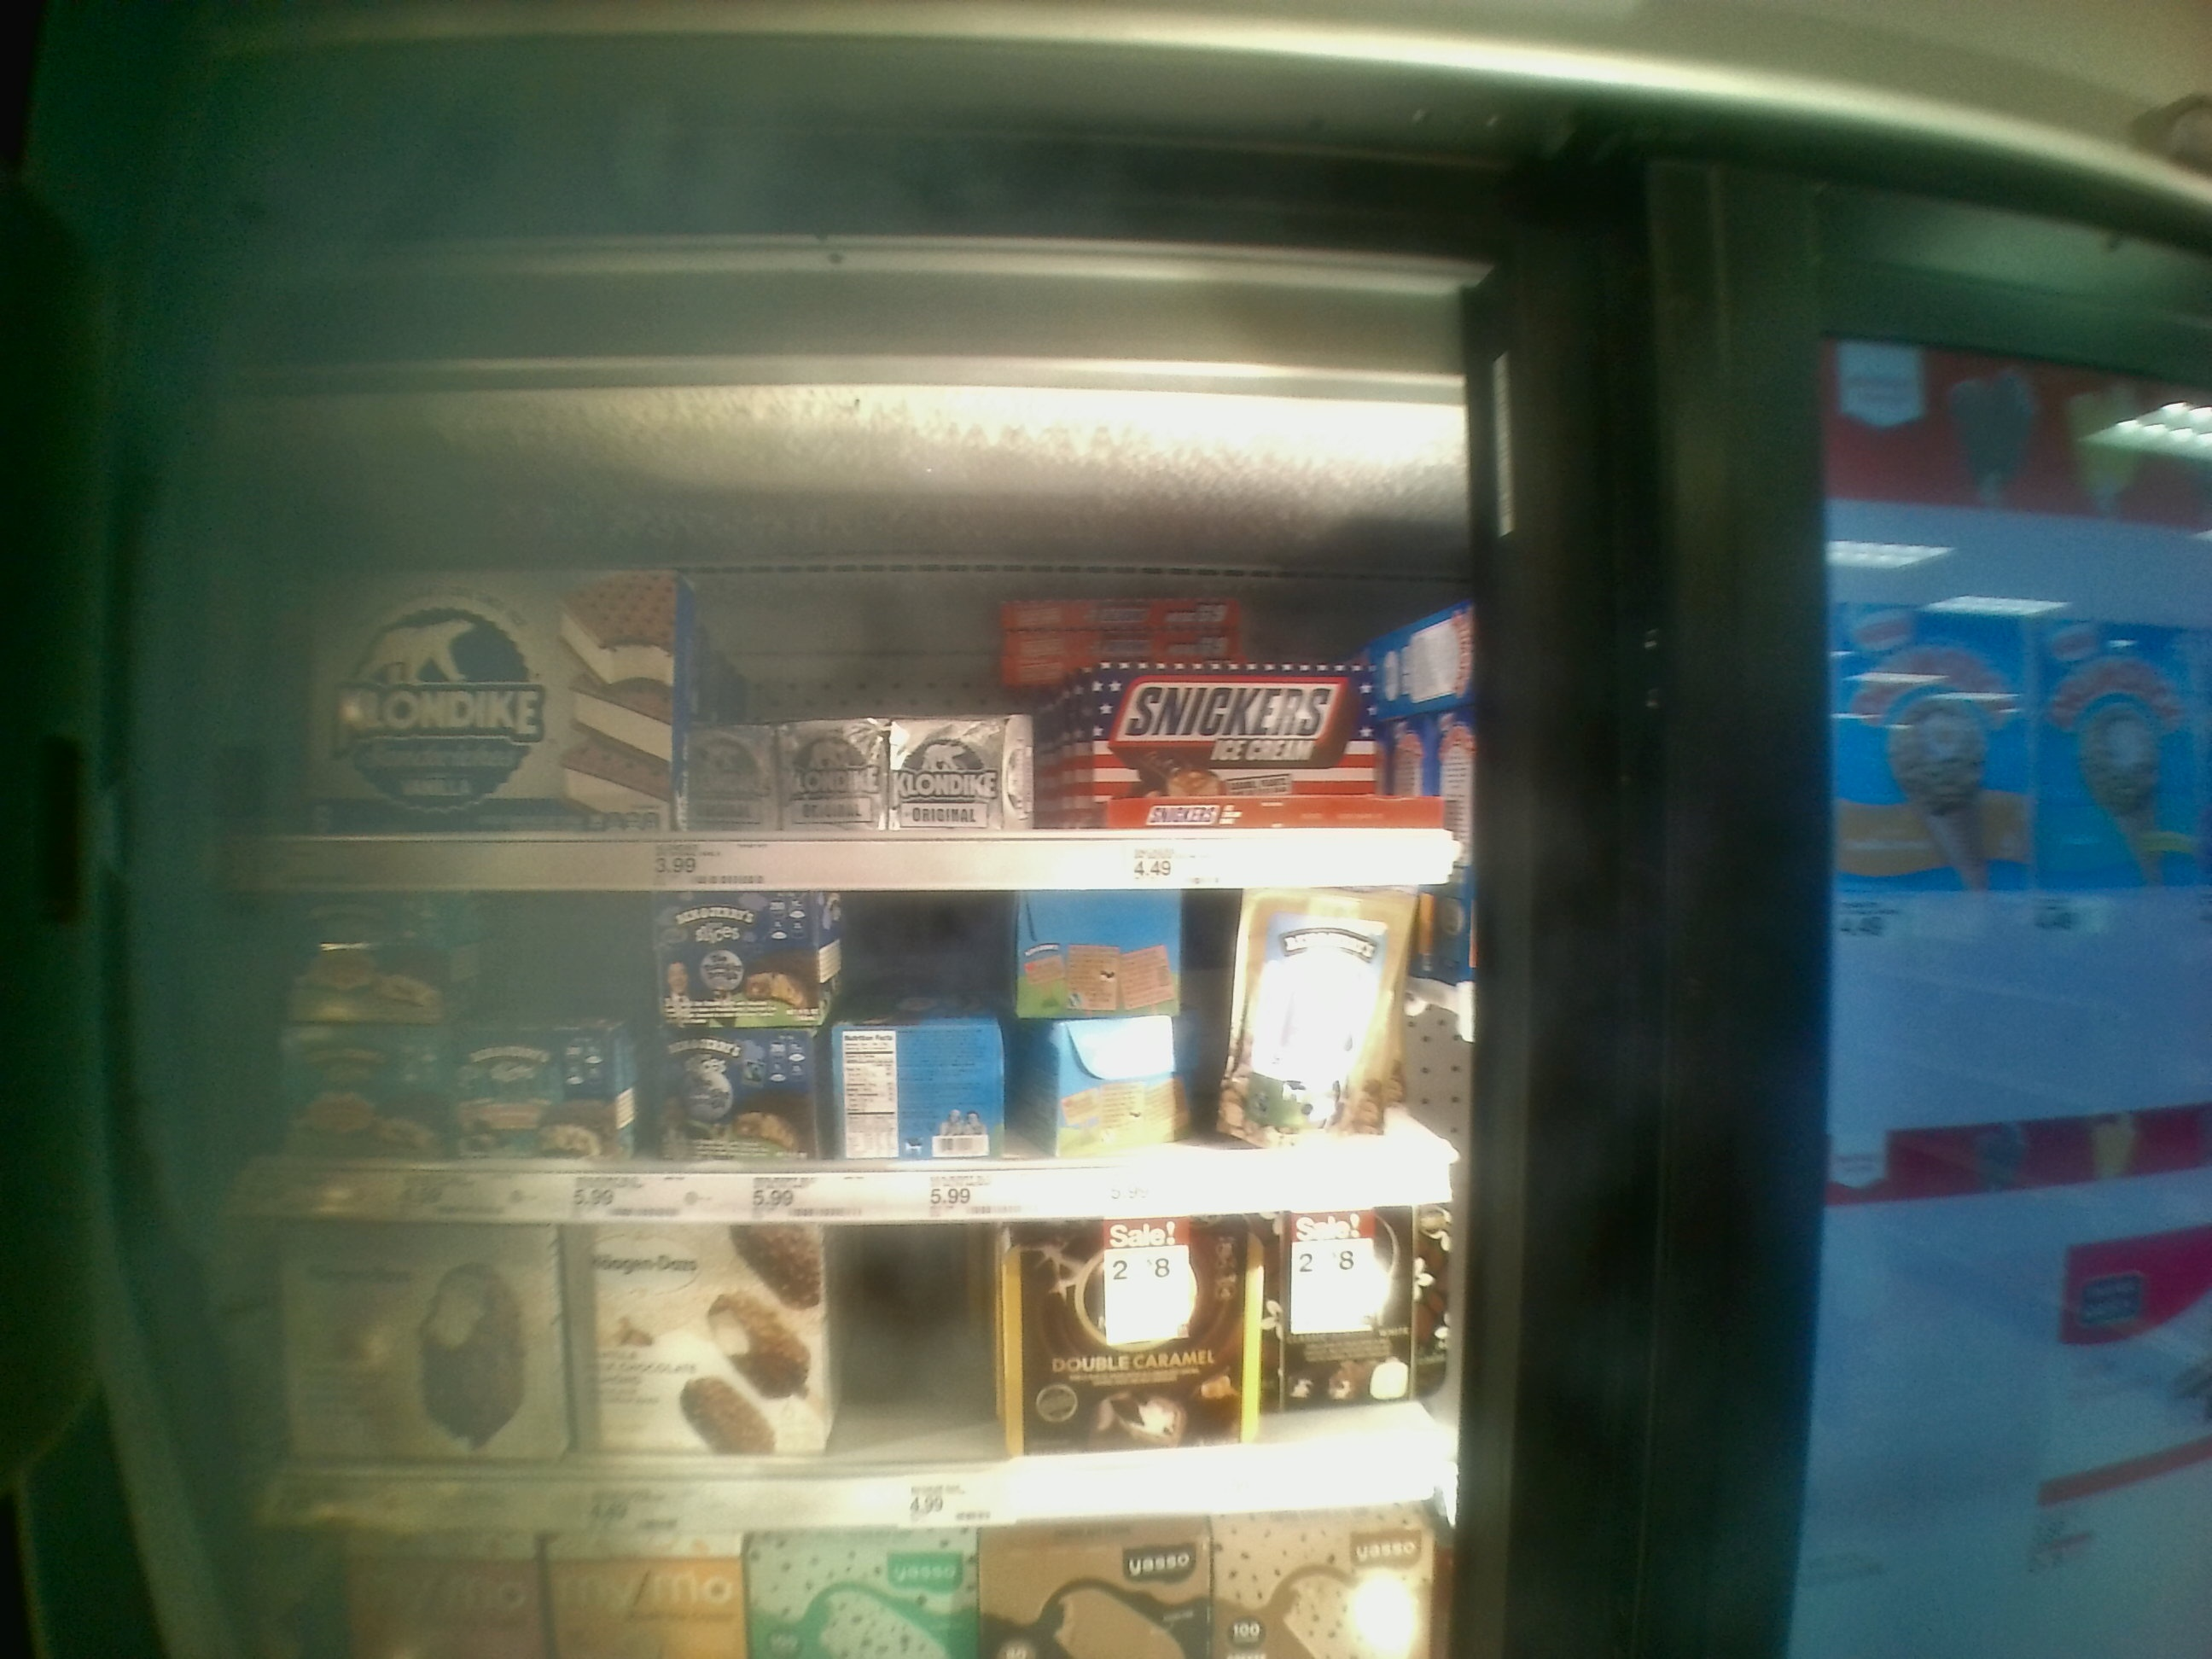ice-cream-shelf: (218, 887, 1470, 1208), (211, 1215, 1474, 1507)
